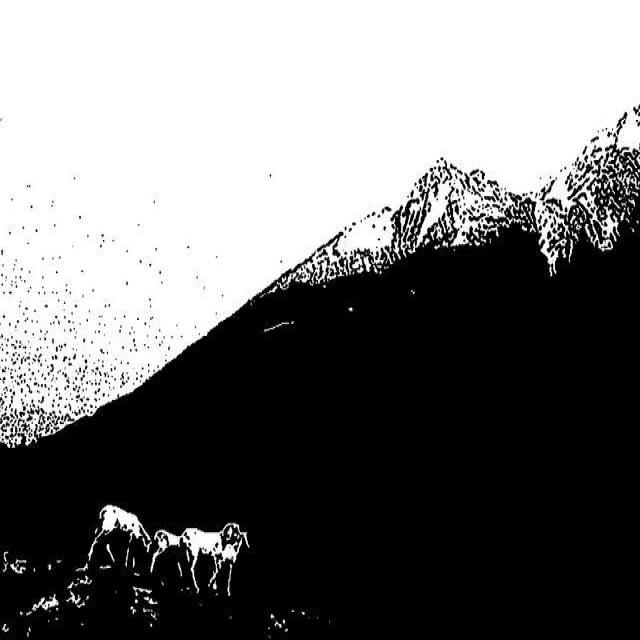Sheep: (179, 523, 243, 596), (88, 506, 154, 570), (149, 531, 184, 588)
